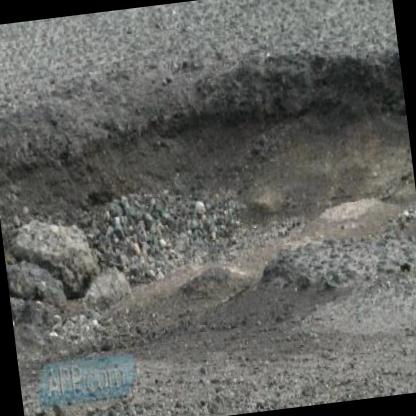pothole: (0, 29, 416, 364)
